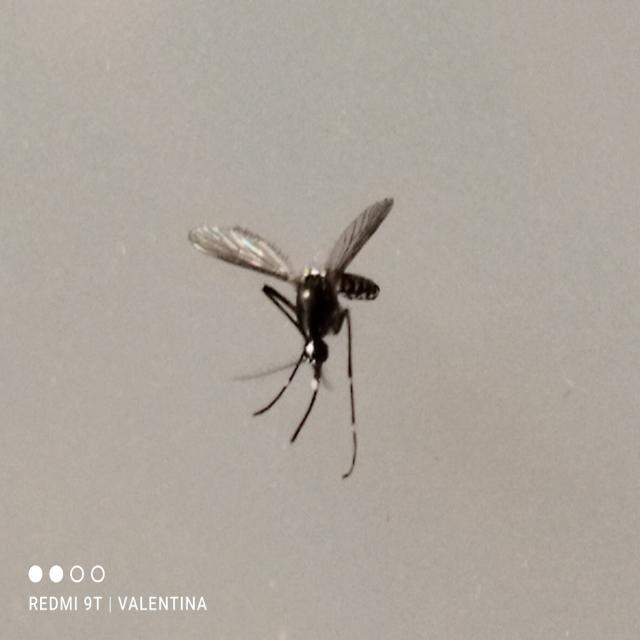albopictus: (194, 194, 399, 479)
